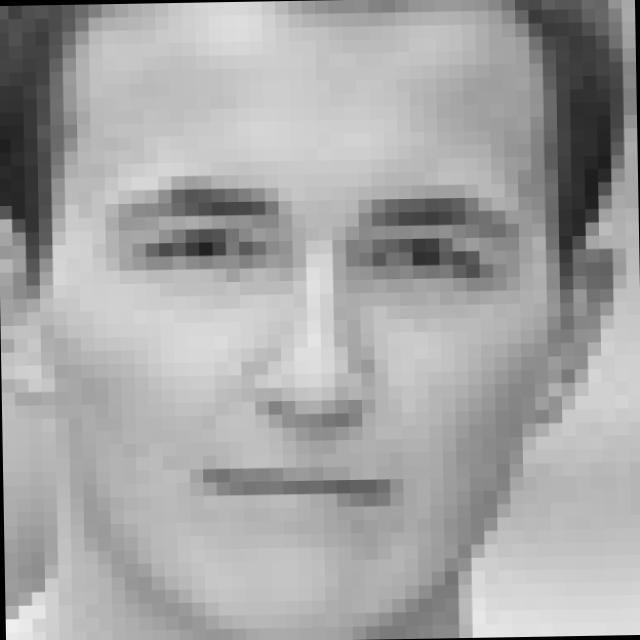neutral: (93, 168, 528, 534)
